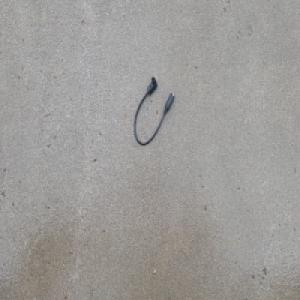Wire: (133, 75, 175, 146)
